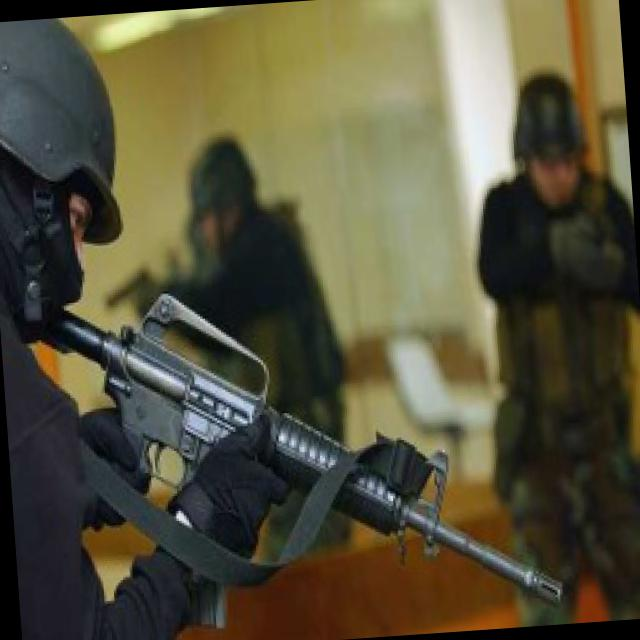long weapon: (70, 247, 598, 639)
